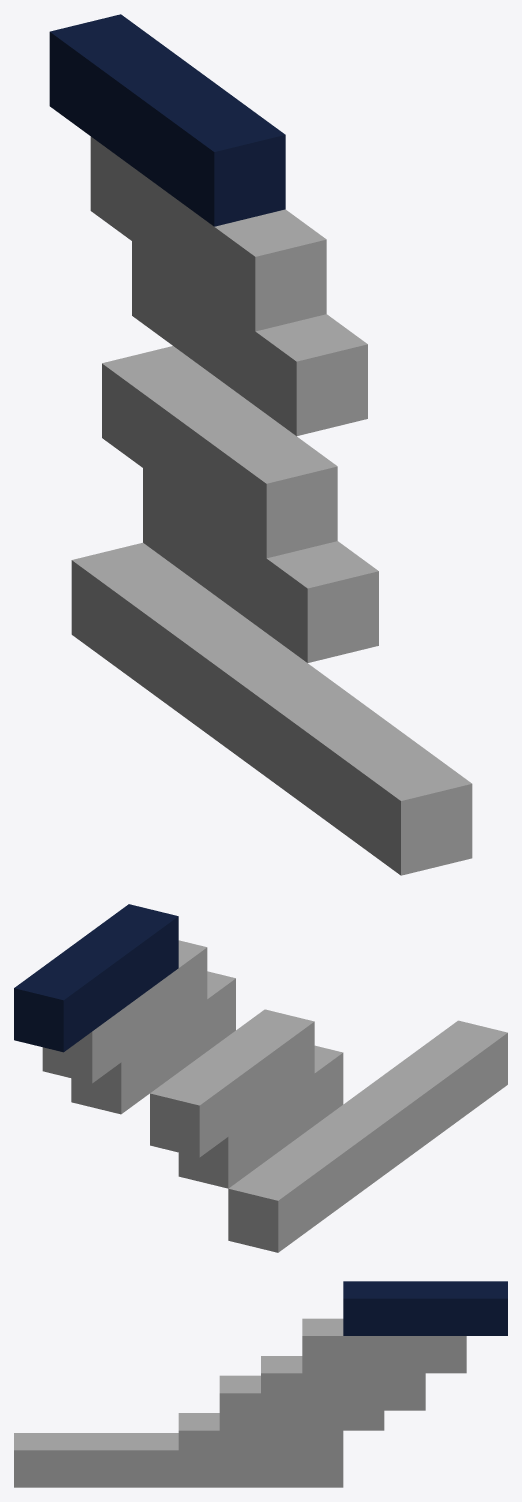
Rendered from Extra-1-InterstellarRunner_Fin_L.obj.
The picture shows the model from 3 angles, top to bottom: view 1: azimuth 30°, elevation 25°; view 2: azimuth 150°, elevation 25°; view 3: azimuth 270°, elevation 25°; orthographic projection. The views are drawn at different scales.
Visible parts, largest first — view 1: InterstellarRunner_Fin_L; view 2: InterstellarRunner_Fin_L; view 3: InterstellarRunner_Fin_L.
Part boxes in pixels (<box>): InterstellarRunner_Fin_L: <box>49,14,472,875</box>; InterstellarRunner_Fin_L: <box>14,904,507,1252</box>; InterstellarRunner_Fin_L: <box>14,1281,507,1487</box>.
Bounding box in the file's own units: 0.3 × 0.6 × 1.2.
1 material, 1 textured.
